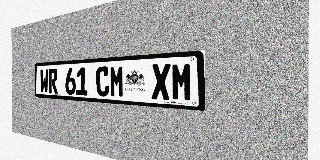1: (76, 67, 87, 96)
6: (65, 68, 76, 95)
C: (96, 66, 109, 97)
M: (171, 62, 193, 102), (110, 65, 124, 98)
R: (49, 69, 58, 94)
W: (40, 69, 48, 93)
X: (151, 63, 170, 100)
